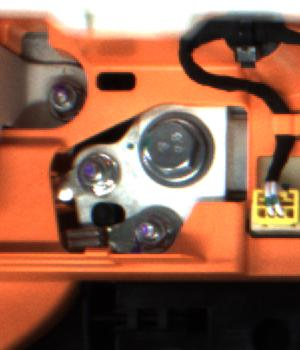nut_b: (130, 106, 226, 197)
